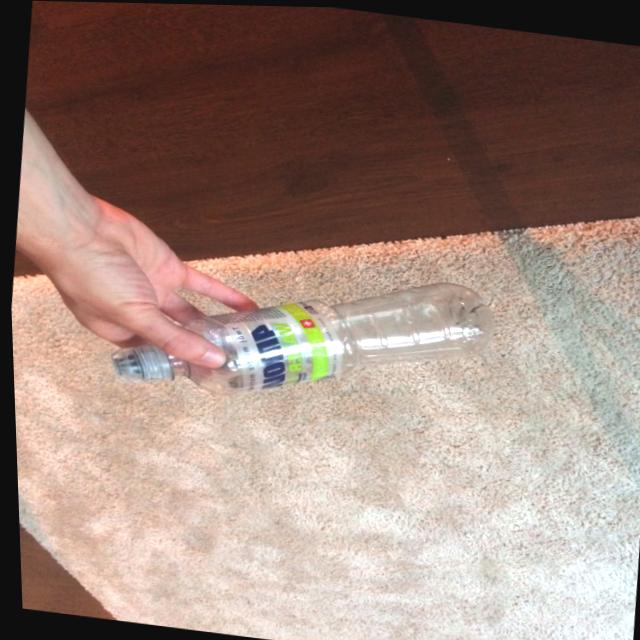Plastic: (87, 229, 510, 438)
